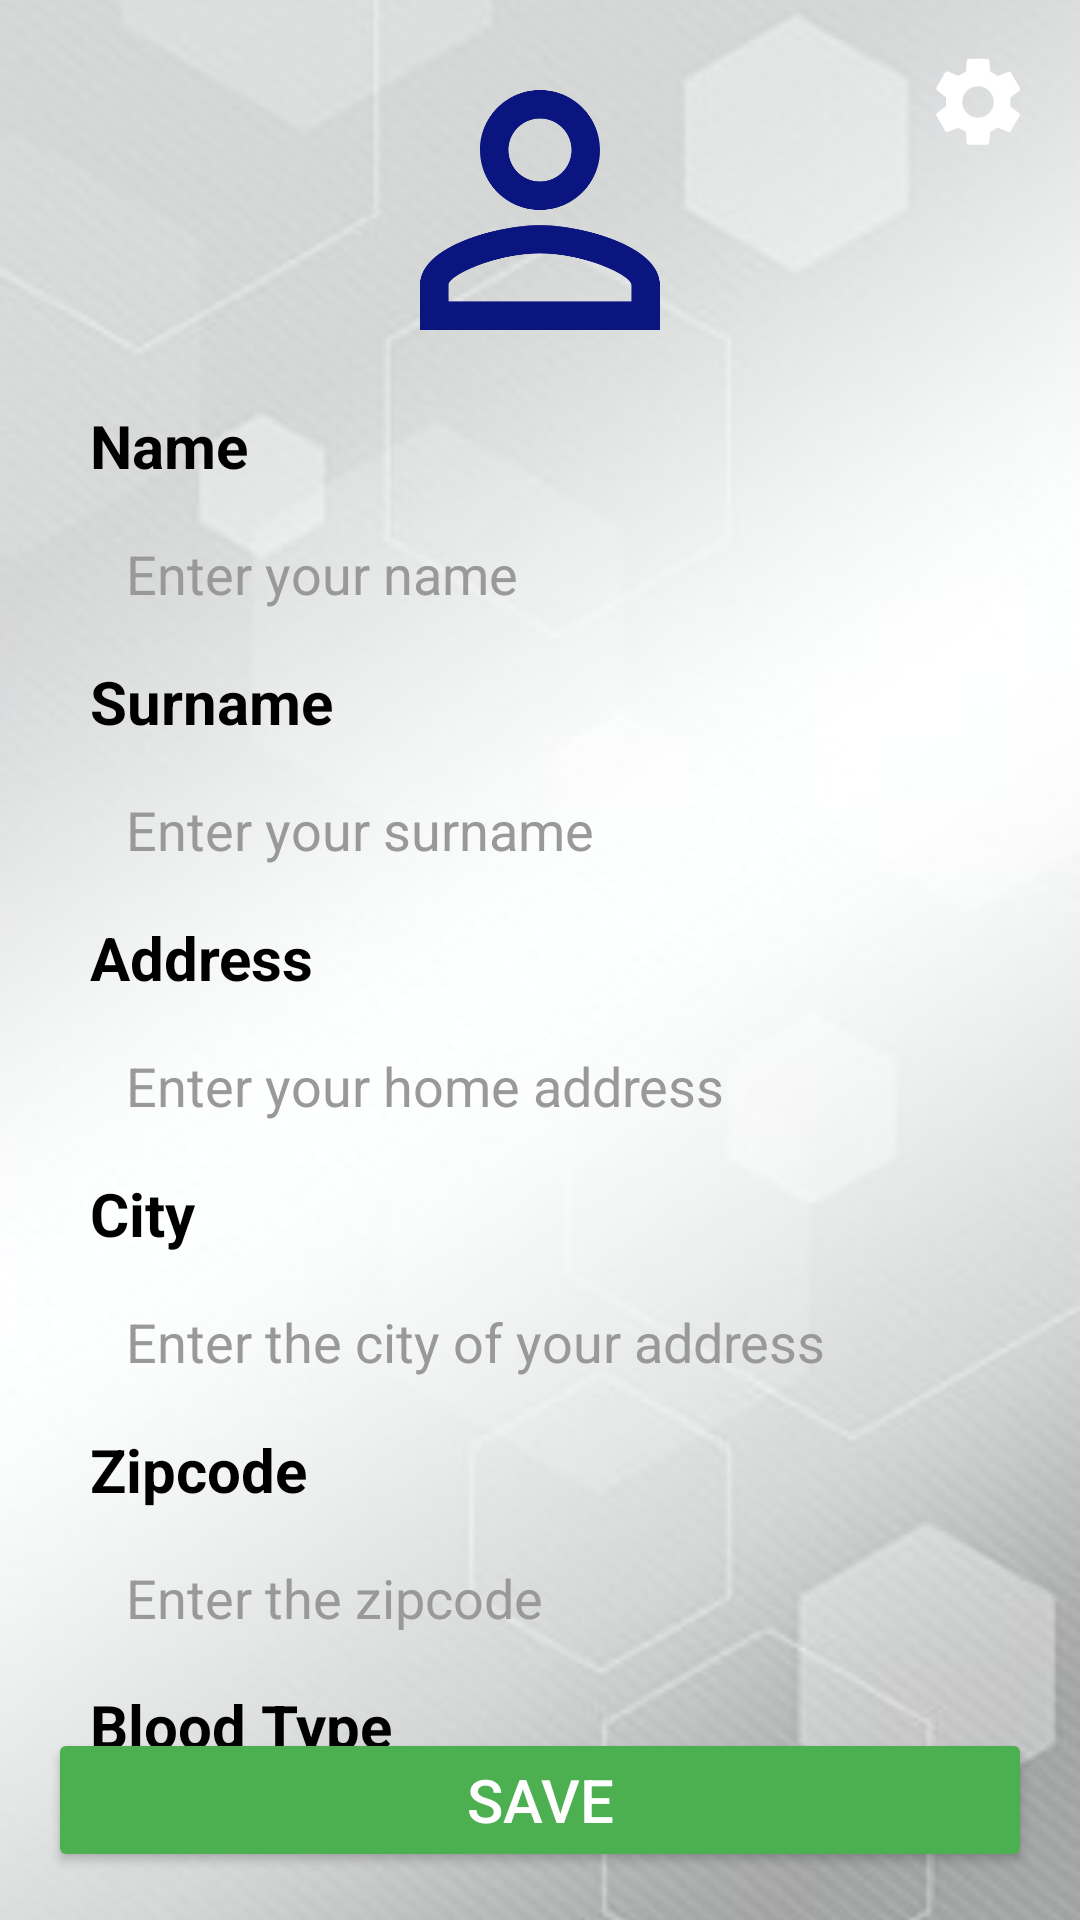

Named icons in this screenshot (1080px x 1920px) and their bounding boxes, (left=x1, top=y1, right=x2, bottom=y2):
person: (left=420, top=90, right=660, bottom=330)
